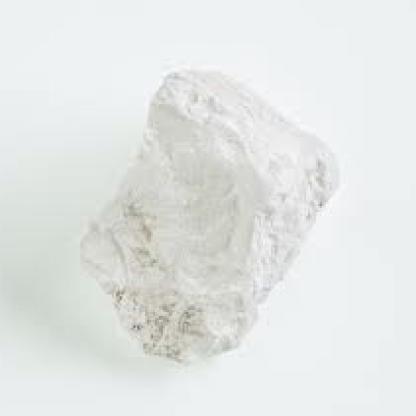Sedimentary_Chalk: (63, 53, 351, 357)
